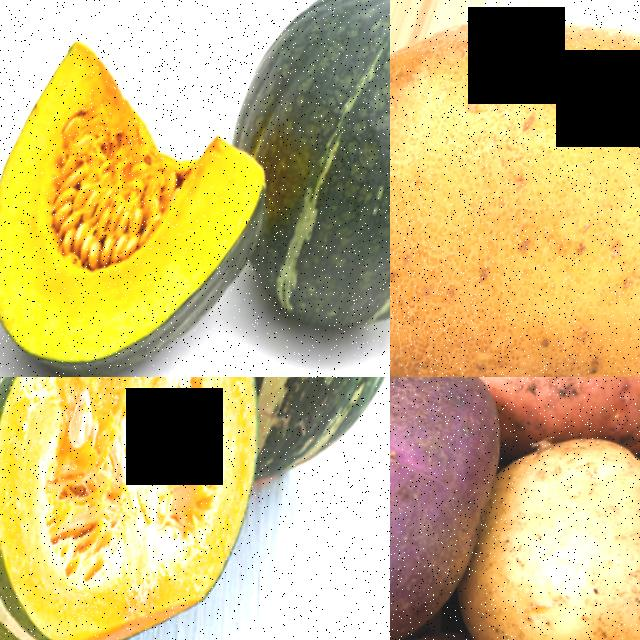potato: (390, 0, 640, 377), (449, 410, 640, 640)
pumpkin: (0, 21, 321, 377), (0, 377, 323, 640), (238, 0, 390, 373)
